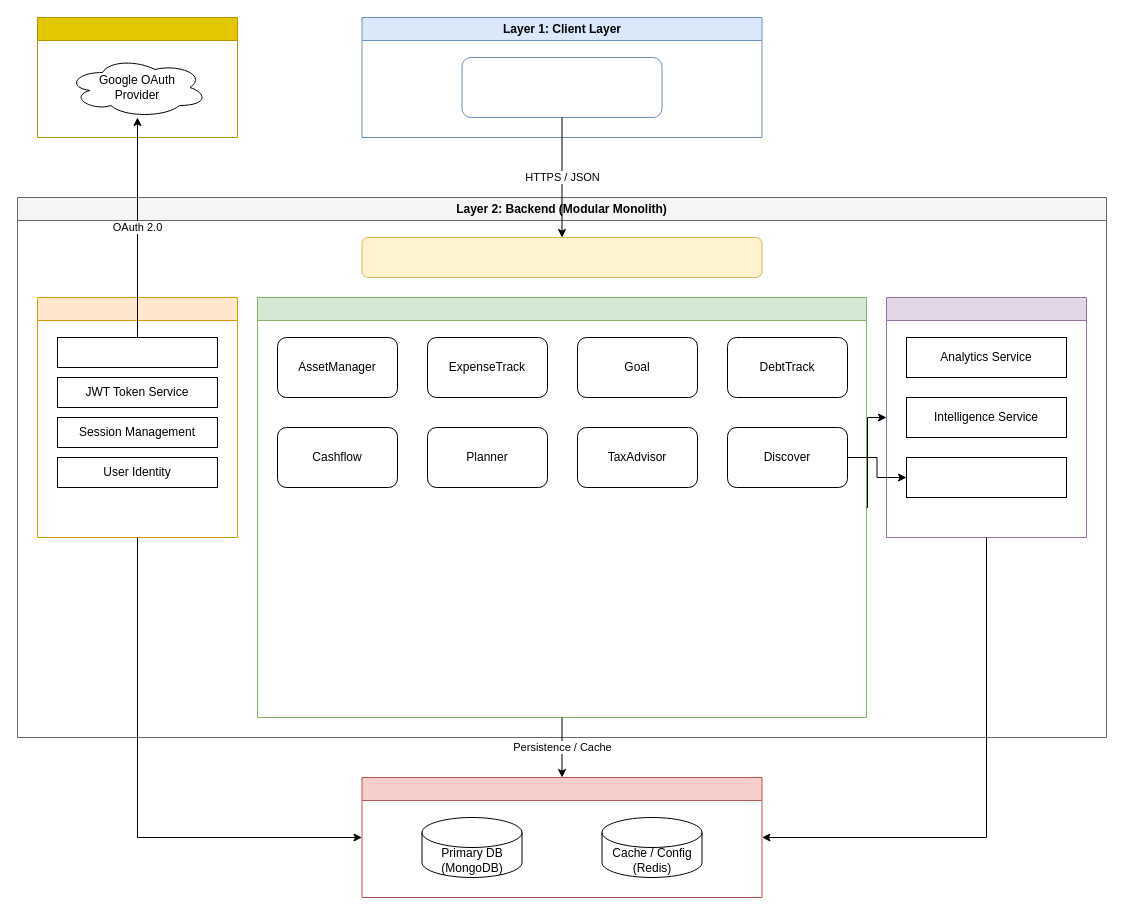
Some shapes in this 1124 by 915 pixel diagram are drawn without their labels. The box of each missing label's shape, as (x1, y1, x2, y2) in pixels:
API Gateway / Entry Point REST / GraphQL: (361, 236, 762, 278)
Apps Module (Financial Domains): (256, 296, 866, 718)
Auth Module: (36, 296, 238, 538)
Config Service: (906, 456, 1066, 498)
Layer 3: Data Layer: (361, 776, 762, 898)
Layer 4: External Services: (36, 16, 238, 138)
OAuth (Google): (56, 336, 218, 368)
Platform Module: (886, 296, 1086, 538)
Web Application Next.js Framework: (461, 56, 662, 118)
